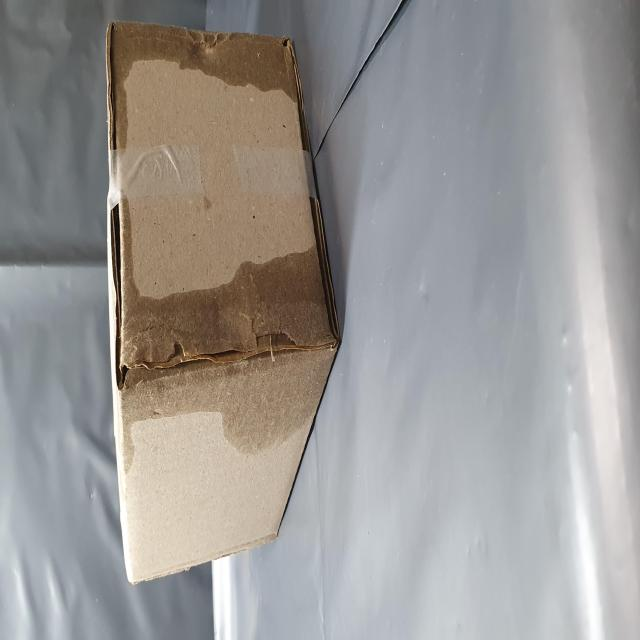wet: (94, 209, 226, 603), (275, 200, 350, 532)
